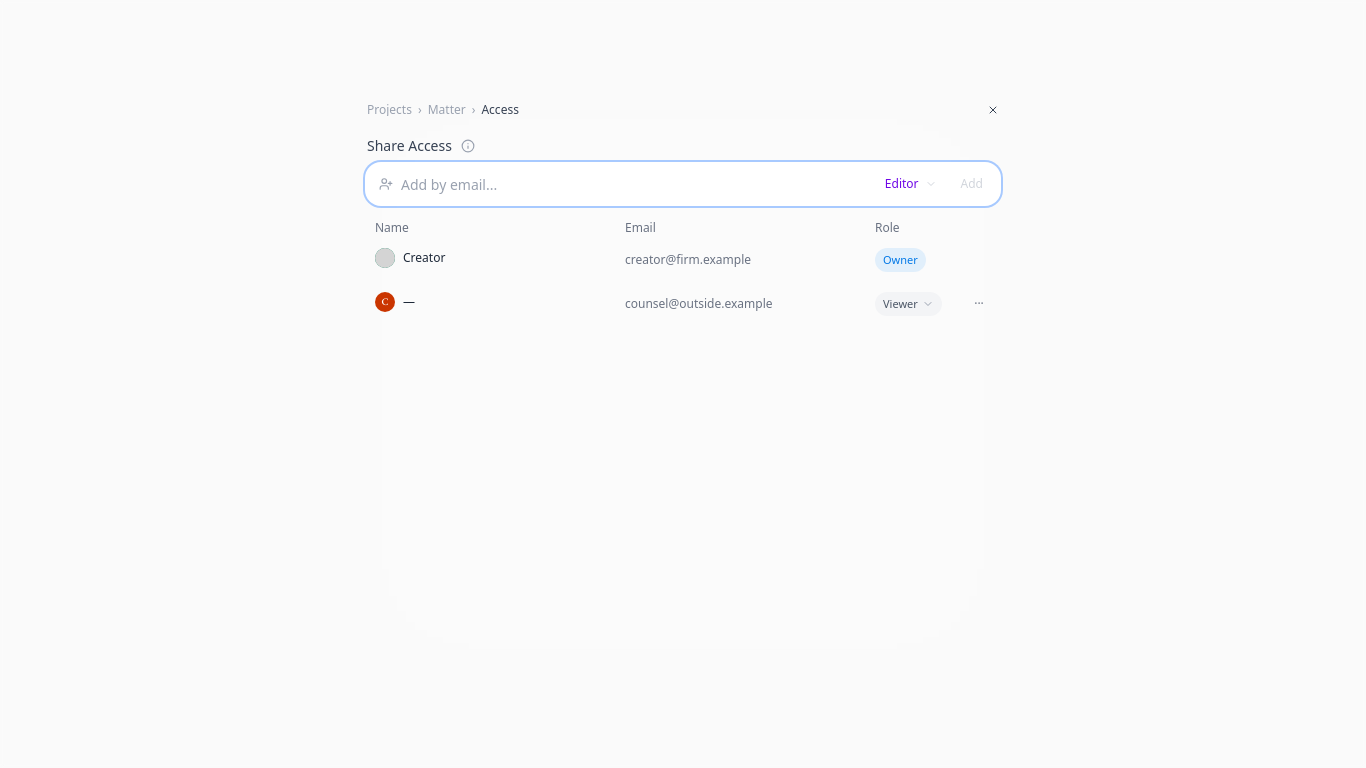
Test: AccessModal — per-recipient roles › refuses an address that does not belong to an existing user
The width and height of the screenshot is (1366, 768).
Click the button with aria-label "Role for the new recipient" at (911, 184), box [873,164,949,204]
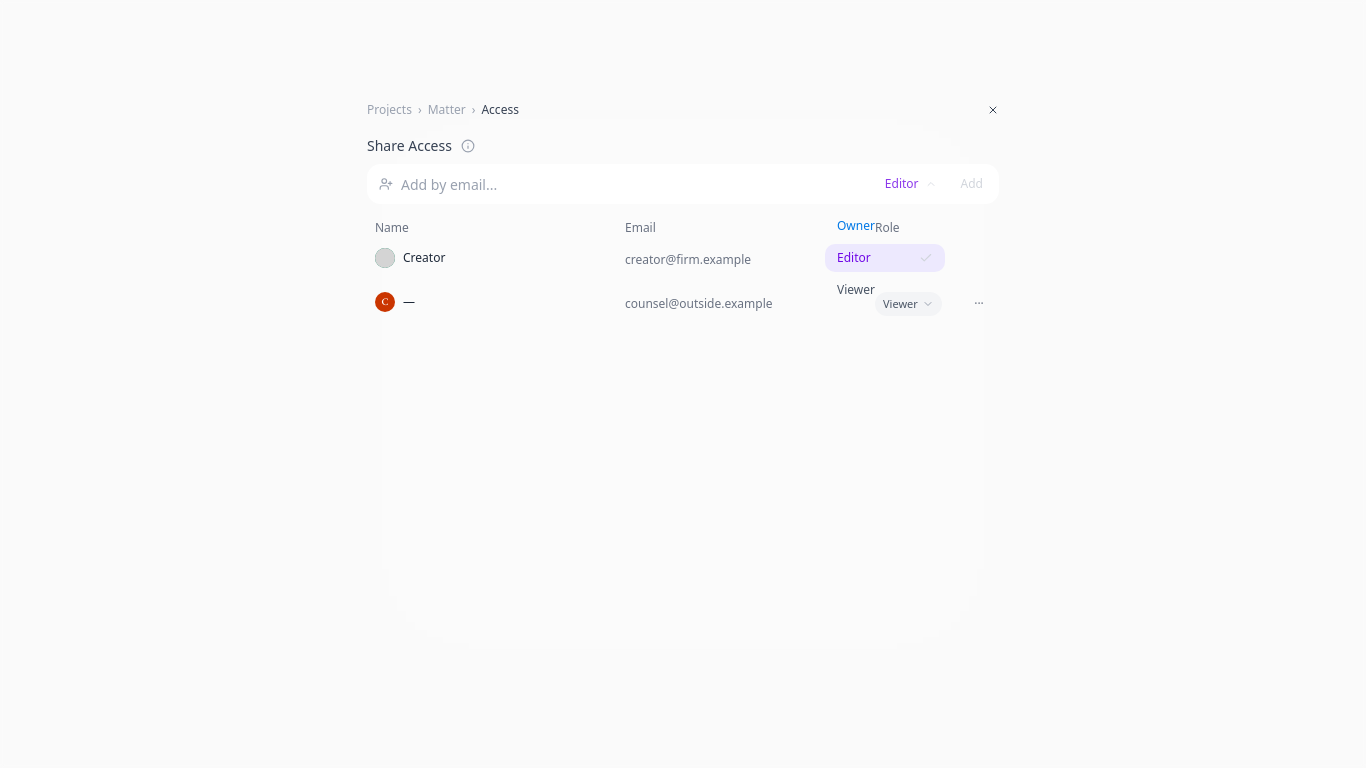
Click the menu item "Viewer" at (856, 290), box [837,281,875,298]
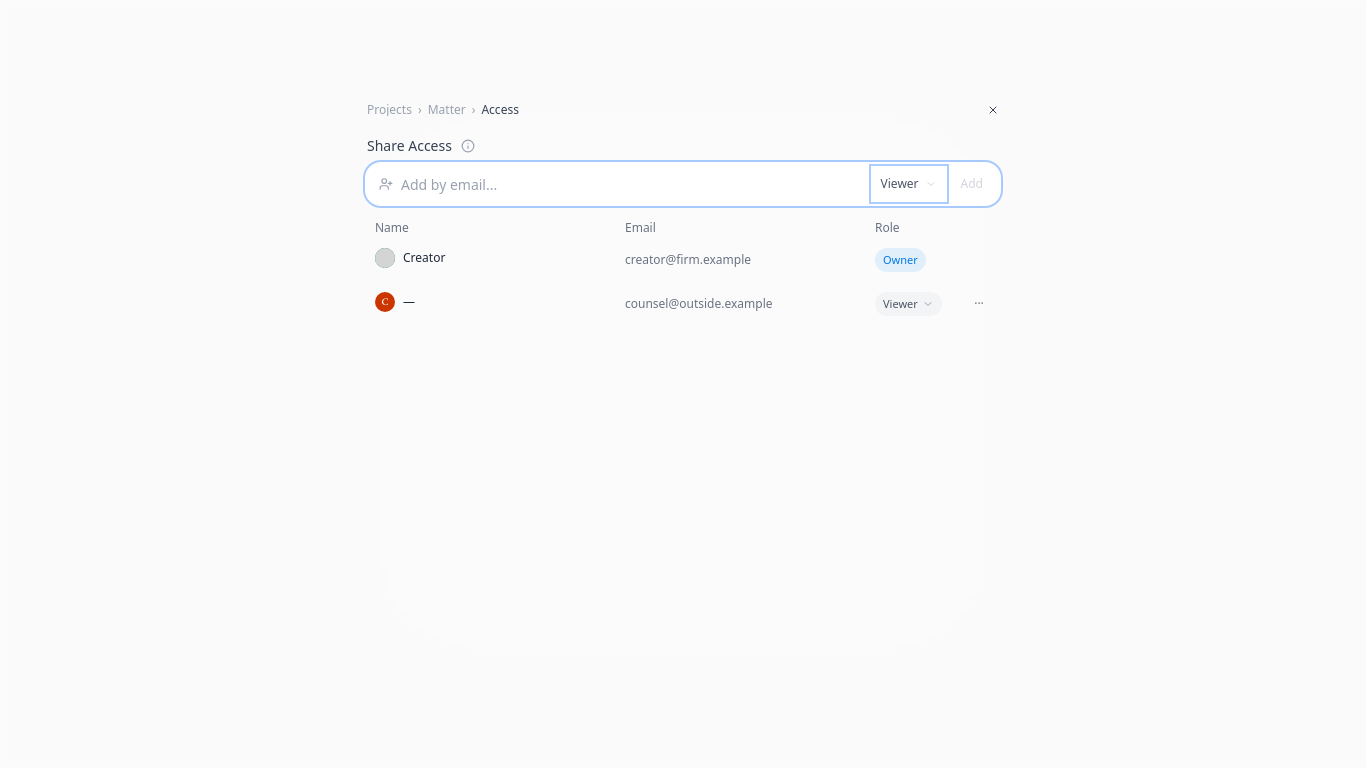
Click the field with placeholder "Add by email..." at (635, 184), box [401,164,869,204]
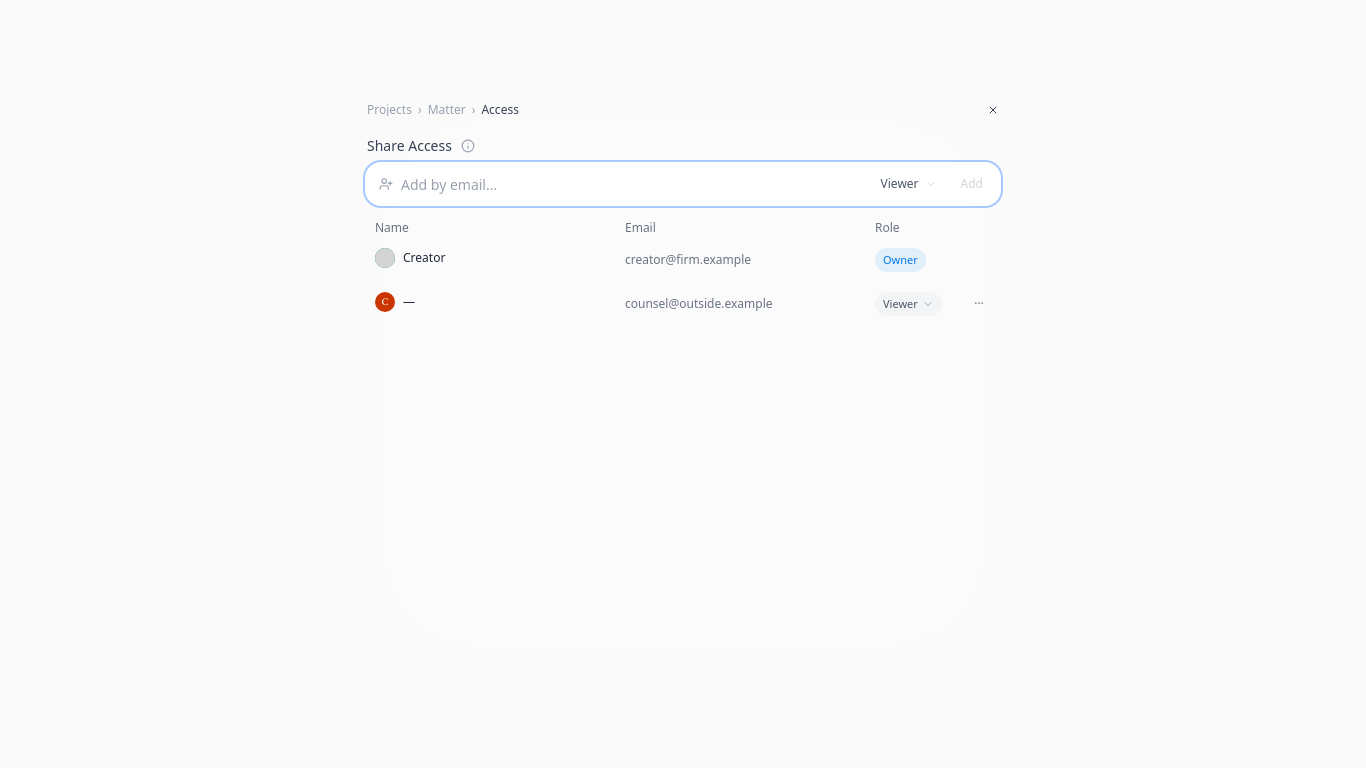
Type keys "newcounsel@outside.example"
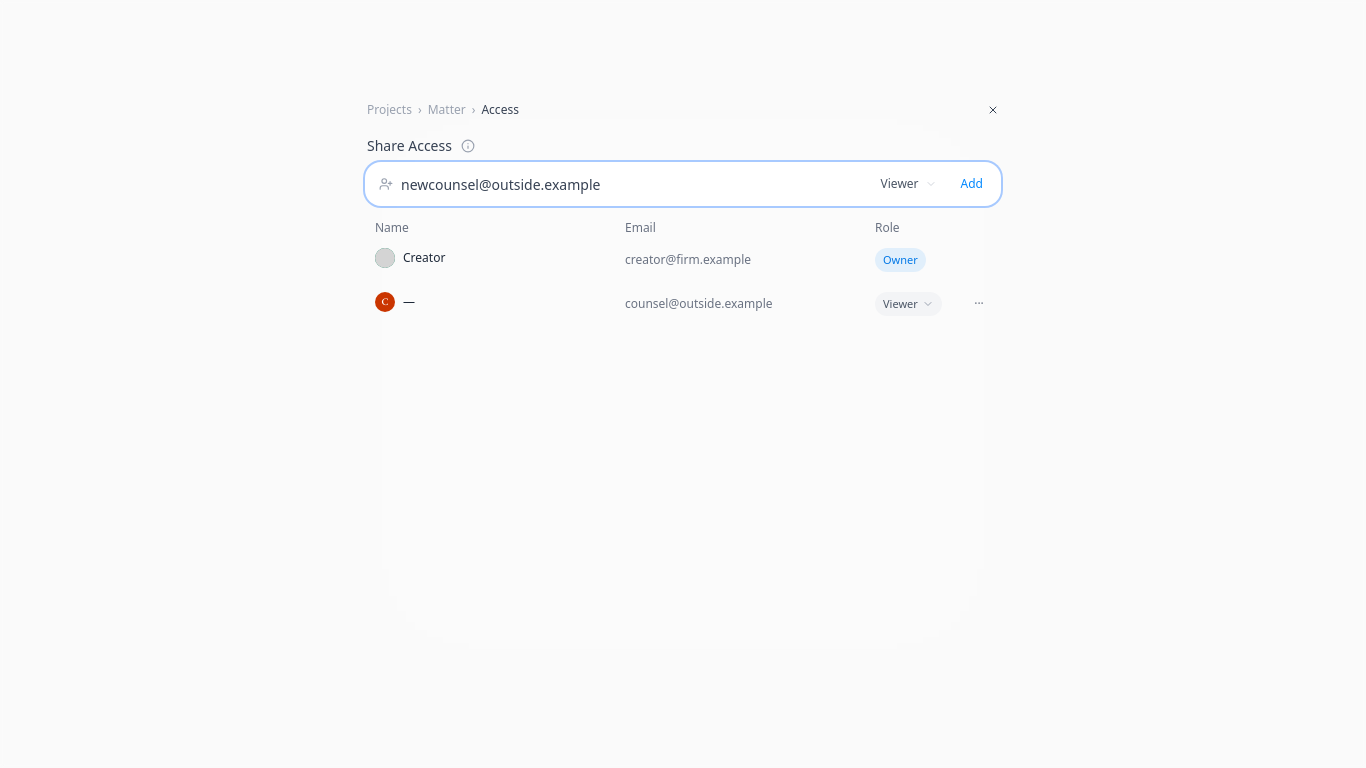
Click the button "Add" at (974, 184), box [949,164,999,204]
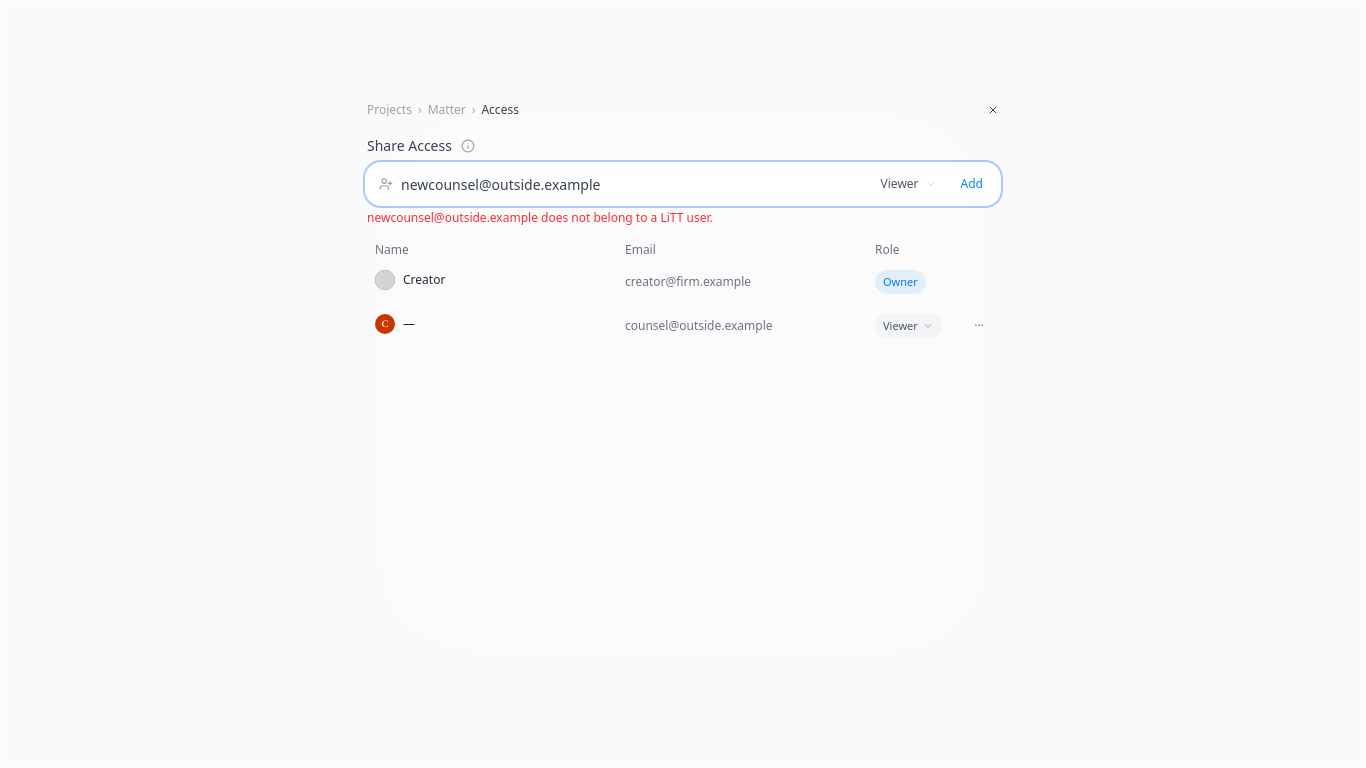
Expected: the text "newcounsel@outside.example does not belong to a LiTT user." is shown, [367,209,713,226]
